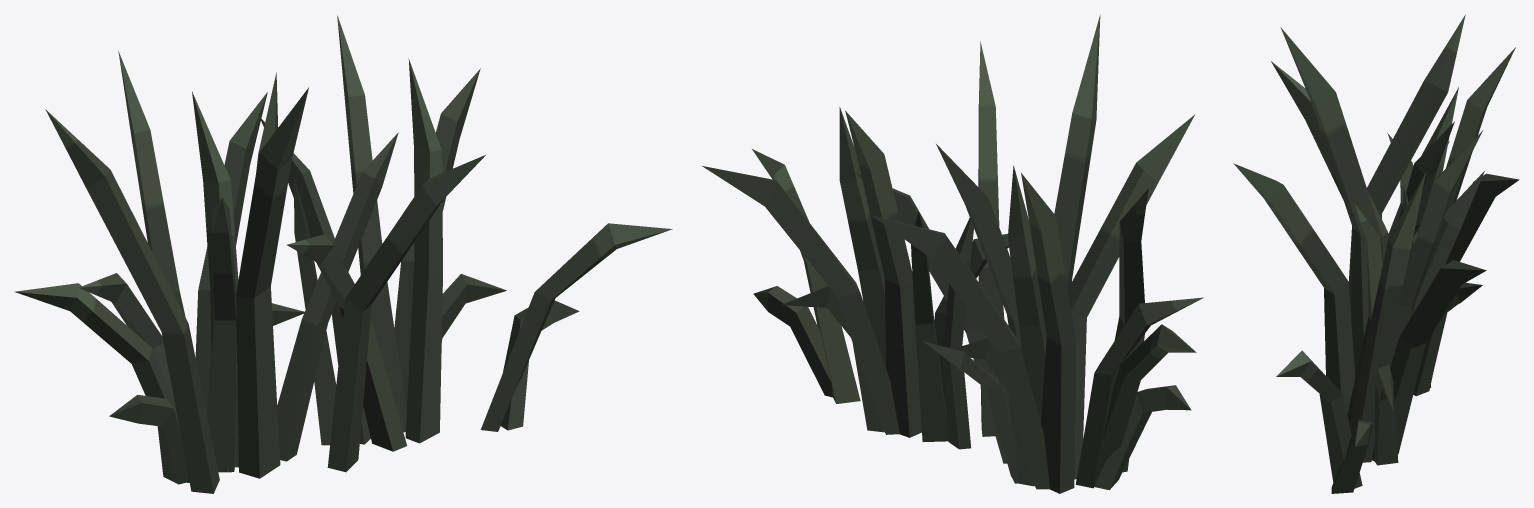
The model's file is crypt_plant_a.gltf.
3 renders of one model, left to right at view 1: azimuth 30°, elevation 25°; view 2: azimuth 150°, elevation 25°; view 3: azimuth 270°, elevation 25°, orthographic. The views are drawn at different scales.
Visible parts, largest first — view 1: crypt_plant_a; view 2: crypt_plant_a; view 3: crypt_plant_a.
Part boxes in pixels (bbox=[...]): crypt_plant_a: bbox=[14, 15, 672, 493]; crypt_plant_a: bbox=[702, 15, 1203, 493]; crypt_plant_a: bbox=[1233, 14, 1519, 493].
Bounding box in the file's own units: 0.962 × 0.6964 × 0.4939.
1 material, 1 textured.
